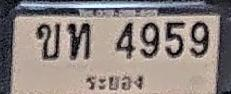4: (116, 22, 134, 58)
5: (165, 21, 185, 57)
9: (140, 22, 159, 58), (190, 20, 209, 56)
A02: (36, 23, 60, 59)
A23: (68, 22, 90, 59)
RYG: (83, 70, 147, 94)
